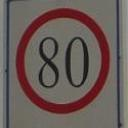speed_limit_80: (16, 8, 110, 115)
